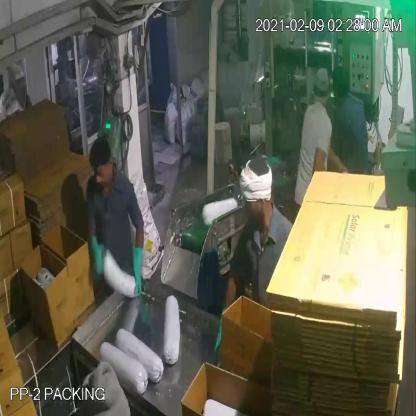glove: (81, 229, 110, 284), (128, 243, 149, 301)
